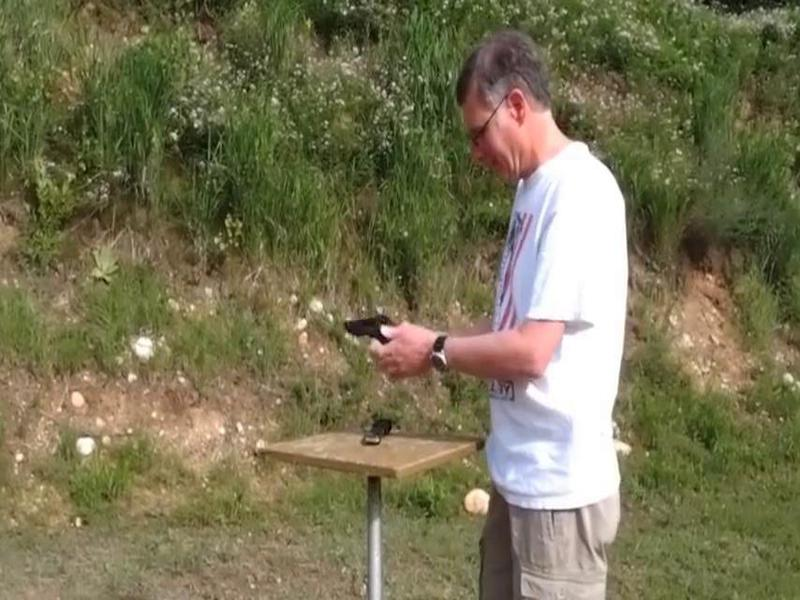Pistola: (323, 304, 414, 384)
